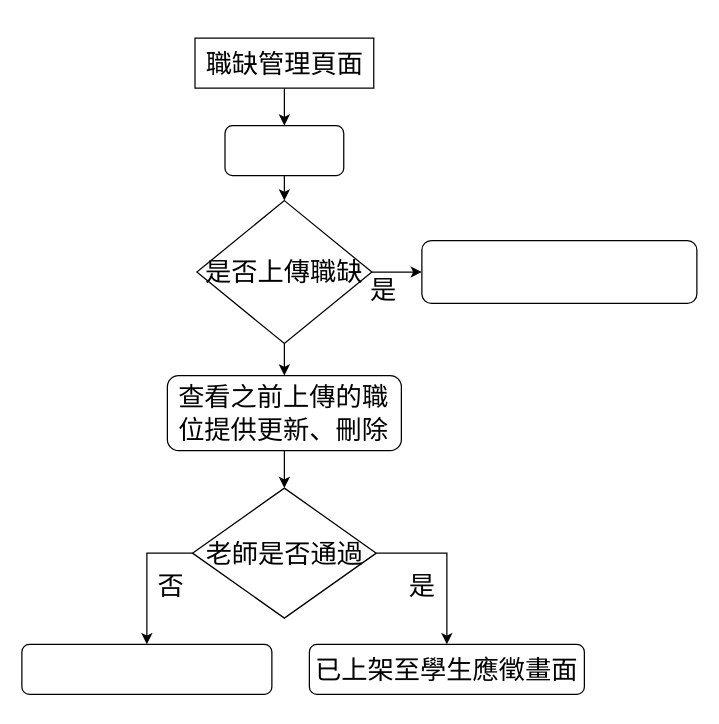
The diagram is 719 pixels wide and 724 high, and some of its shapes have lost their labels. The centre of each missing label's shape, as x and y in pixels:
填寫新增職位相關資訊: (x=559, y=271)
請修正職缺相關內容: (x=146, y=668)
顯示職缺: (x=284, y=150)
